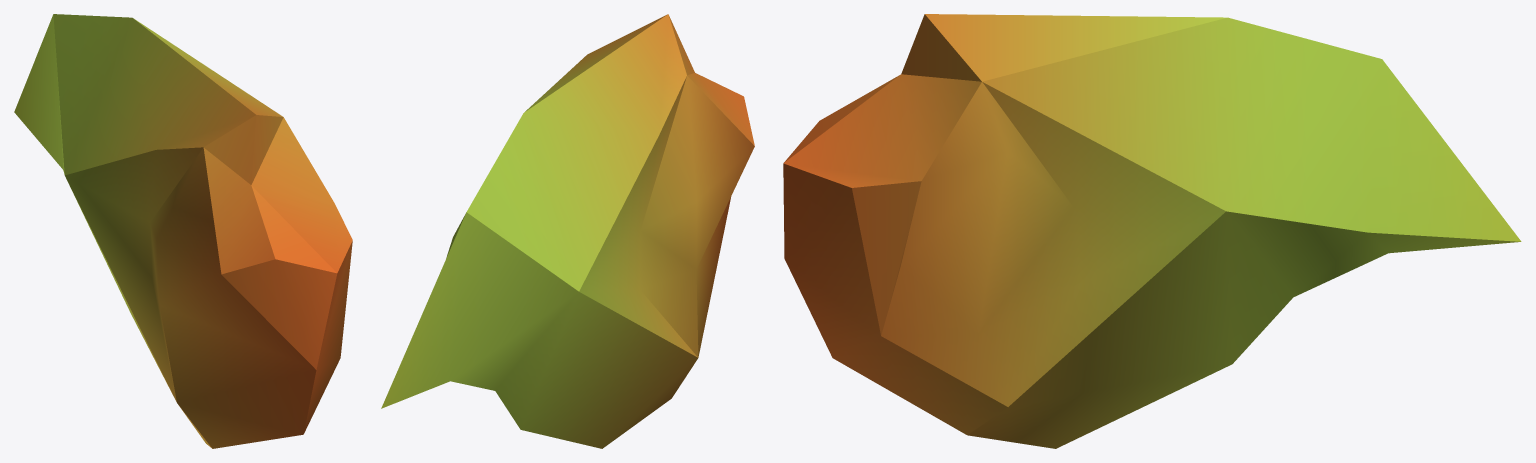
The model's file is Fire_Particle.fbx.
The picture shows the model from 3 angles, left to right: view 1: azimuth 30°, elevation 25°; view 2: azimuth 150°, elevation 25°; view 3: azimuth 270°, elevation 25°; orthographic projection. The views are drawn at different scales.
Parts seen in each view (by area): view 1: Cube; view 2: Cube; view 3: Cube.
Part boxes in pixels (bbox=[...]): Cube: bbox=[14, 14, 352, 448]; Cube: bbox=[381, 14, 754, 448]; Cube: bbox=[783, 14, 1521, 448].
Size of the model in its own units: 12.75 by 32.29 by 50.06.
